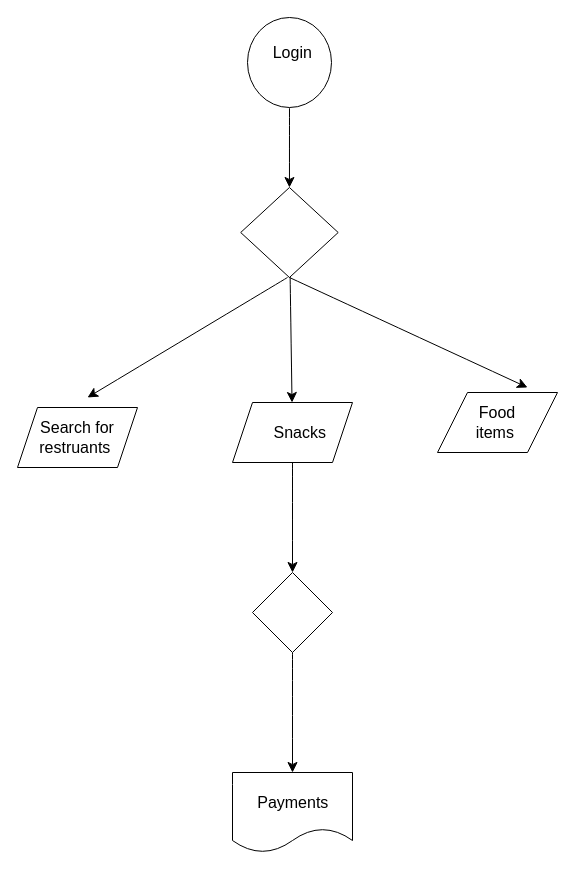
The diagram is 575 pixels wide and 870 high, and some of its shapes have lost their labels. The centre of each missing label's shape, as x and y in pixels:
"Check cred" belongs at point 289,232.
"Confirm order" belongs at point 292,612.
